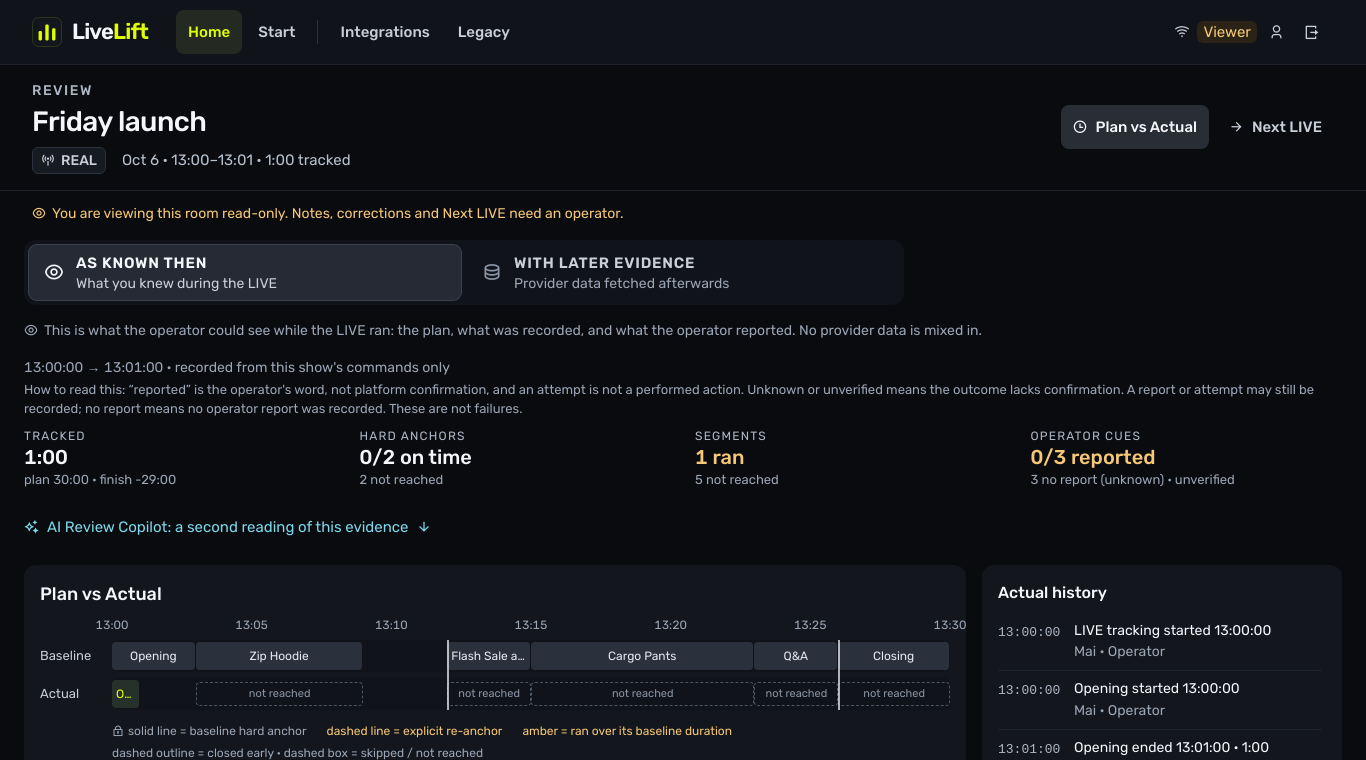
Test: REAL Review and Next LIVE › a viewer can read the review but cannot append or create the next show
This screenshot has width=1366, height=760.
Expected: the element with test id "review-readonly-note" is shown, [32, 205, 623, 222]
Click the tab with test id "view-next-btn" at (1276, 127), box [1217, 105, 1334, 149]
(page scrolled)
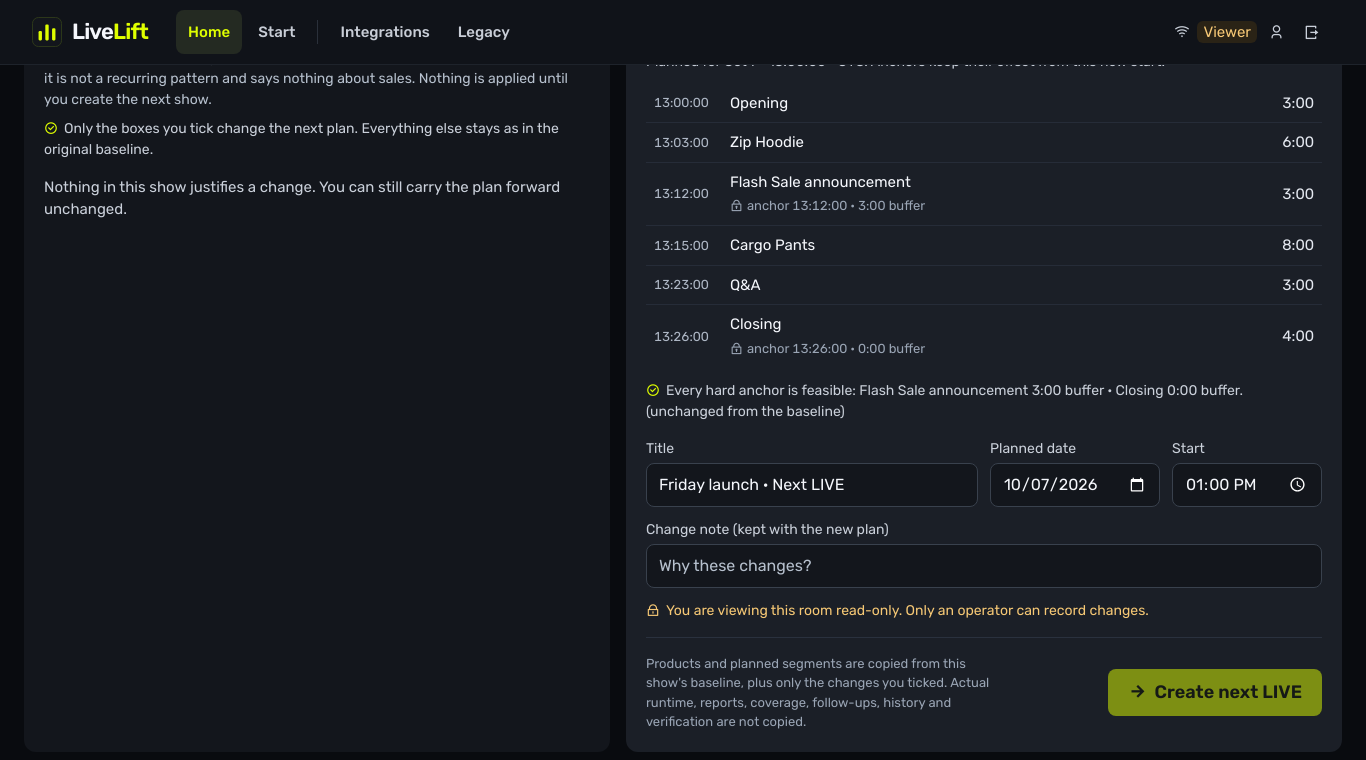
Now the button with test id "create-next-live-cta-btn" is disabled, box [1108, 669, 1322, 716]
